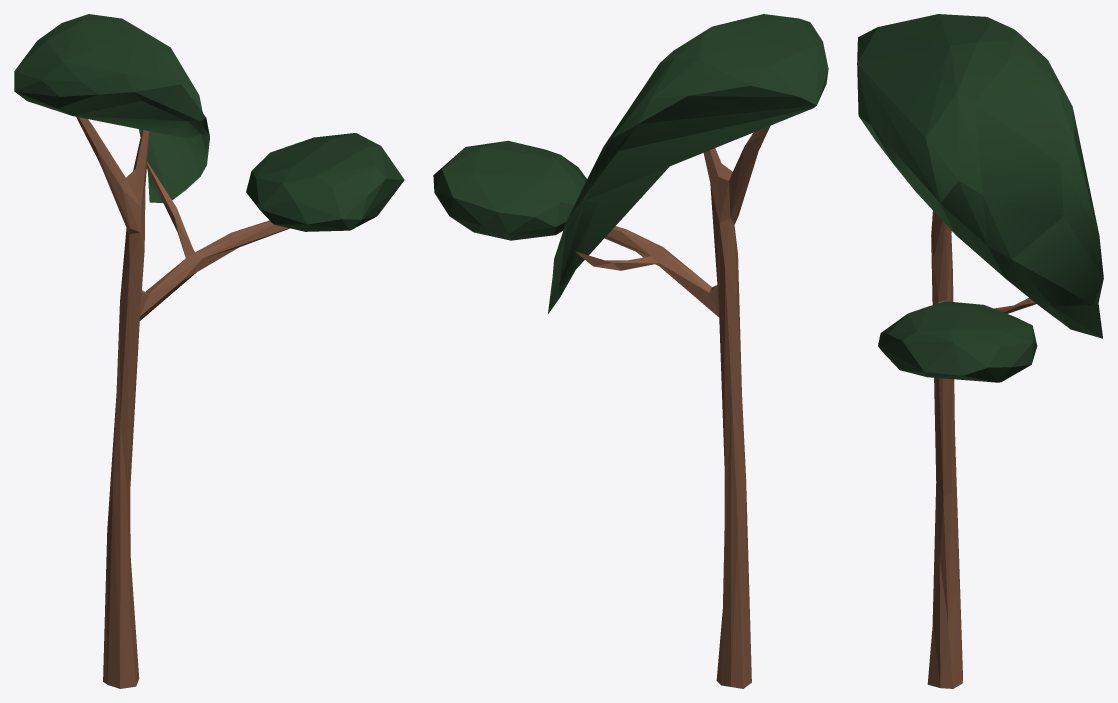
Rendered from SM_tree_fantasy_01.fbx.
3 renders of one model, left to right at view 1: azimuth 30°, elevation 25°; view 2: azimuth 150°, elevation 25°; view 3: azimuth 270°, elevation 25°, orthographic.
Visible parts, largest first — view 1: Object231; view 2: Object231; view 3: Object231.
Boxes of the visible parts, x1,y1,x2,y2 form: Object231: (14, 14, 404, 688); Object231: (433, 14, 828, 688); Object231: (857, 14, 1103, 688).
Size of the model in its own units: 148 by 84.11 by 244.
